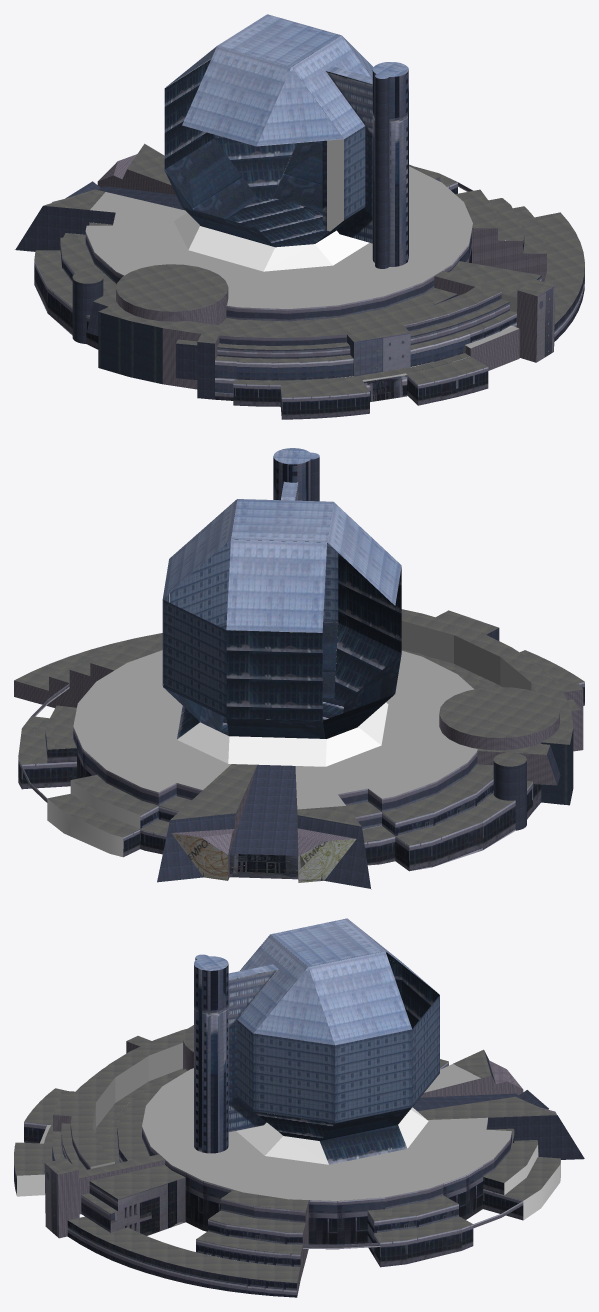
File: national_library.glb
3 views of the same model, one above another, from view 1: azimuth 30°, elevation 25°; view 2: azimuth 150°, elevation 25°; view 3: azimuth 270°, elevation 25° (orthographic). The views are drawn at different scales.
Parts seen in each view (by area): view 1: Object_16, Object_35, Object_25, Object_19, Object_21, Object_27, Object_26, Object_8, Object_2, Object_14, Object_17, Object_18 (+7 smaller); view 2: Object_35, Object_16, Object_25, Object_27, Object_19, Object_28, Object_14, Object_21, Object_2, Object_26, Object_8, Object_5 (+5 smaller); view 3: Object_16, Object_35, Object_25, Object_28, Object_5, Object_18, Object_11, Object_27, Object_14, Object_21, Object_2, Object_19 (+6 smaller).
Boxes of the visible parts, <box> form: Object_16: <box>34,143,584,397</box>; Object_35: <box>85,159,518,381</box>; Object_25: <box>166,14,408,146</box>; Object_19: <box>15,76,389,399</box>; Object_21: <box>52,154,546,389</box>; Object_27: <box>164,59,329,247</box>; Object_26: <box>164,138,363,247</box>; Object_8: <box>85,232,541,358</box>; Object_2: <box>34,182,488,419</box>; Object_14: <box>103,177,505,381</box>; Object_17: <box>322,71,372,243</box>; Object_18: <box>372,70,408,266</box>; Object_35: <box>73,621,535,809</box>; Object_16: <box>14,609,584,845</box>; Object_25: <box>163,448,401,632</box>; Object_27: <box>177,539,401,739</box>; Object_19: <box>157,457,560,889</box>; Object_28: <box>162,537,338,717</box>; Object_14: <box>47,631,388,856</box>; Object_21: <box>14,663,583,880</box>; Object_2: <box>18,682,584,871</box>; Object_26: <box>163,622,401,738</box>; Object_8: <box>73,727,477,829</box>; Object_5: <box>45,727,493,835</box>; Object_16: <box>14,1025,560,1282</box>; Object_35: <box>40,1043,511,1200</box>; Object_25: <box>194,918,437,1045</box>; Object_28: <box>237,995,439,1123</box>; Object_5: <box>67,1128,514,1297</box>; Object_18: <box>194,964,228,1153</box>; Object_11: <box>171,1165,482,1249</box>; Object_27: <box>254,951,439,1164</box>; Object_14: <box>17,1107,560,1255</box>; Object_21: <box>53,1040,556,1297</box>; Object_2: <box>14,1061,538,1267</box>; Object_19: <box>195,958,584,1159</box>.
Size of what is drawn, in the model's own units: 156 by 74.53 by 164.
Materials: 34 (25 with a texture image).
